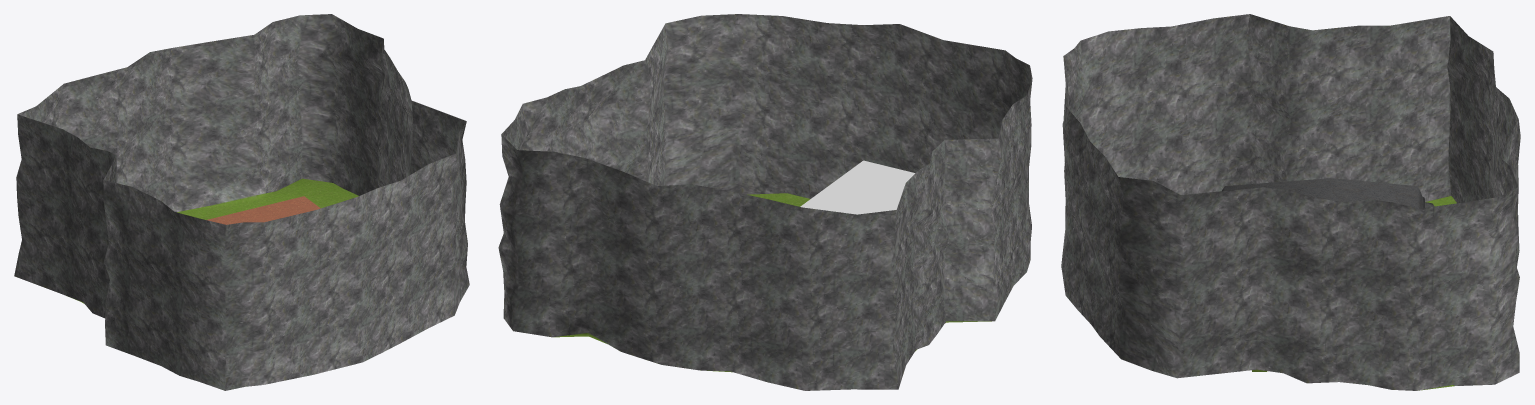
The model's file is Dojo.fbx.
The picture shows the model from 3 angles, left to right: view 1: azimuth 30°, elevation 25°; view 2: azimuth 150°, elevation 25°; view 3: azimuth 270°, elevation 25°; orthographic projection. The views are drawn at different scales.
Visible parts, largest first — view 1: Terrain, LuaPlace; view 2: Terrain, GrappleBallBarrier; view 3: Terrain, Dojo.
Part boxes in pixels (x1=…): Terrain: x1=14, y1=14, x2=469, y2=390; LuaPlace: x1=206, y1=196, x2=320, y2=224; Terrain: x1=498, y1=14, x2=1032, y2=390; GrappleBallBarrier: x1=800, y1=160, x2=915, y2=214; Terrain: x1=1061, y1=14, x2=1520, y2=390; Dojo: x1=1222, y1=178, x2=1434, y2=208.
Bounding box in the file's own units: 2044 × 990 × 2029.
